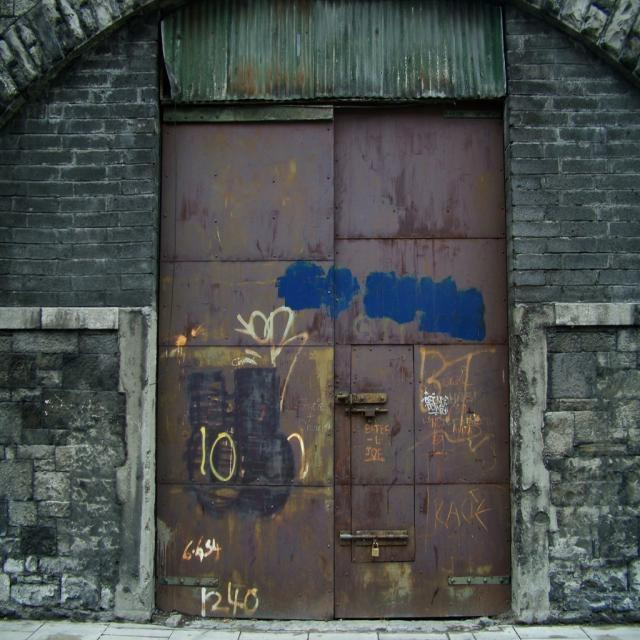door: (156, 112, 507, 620)
